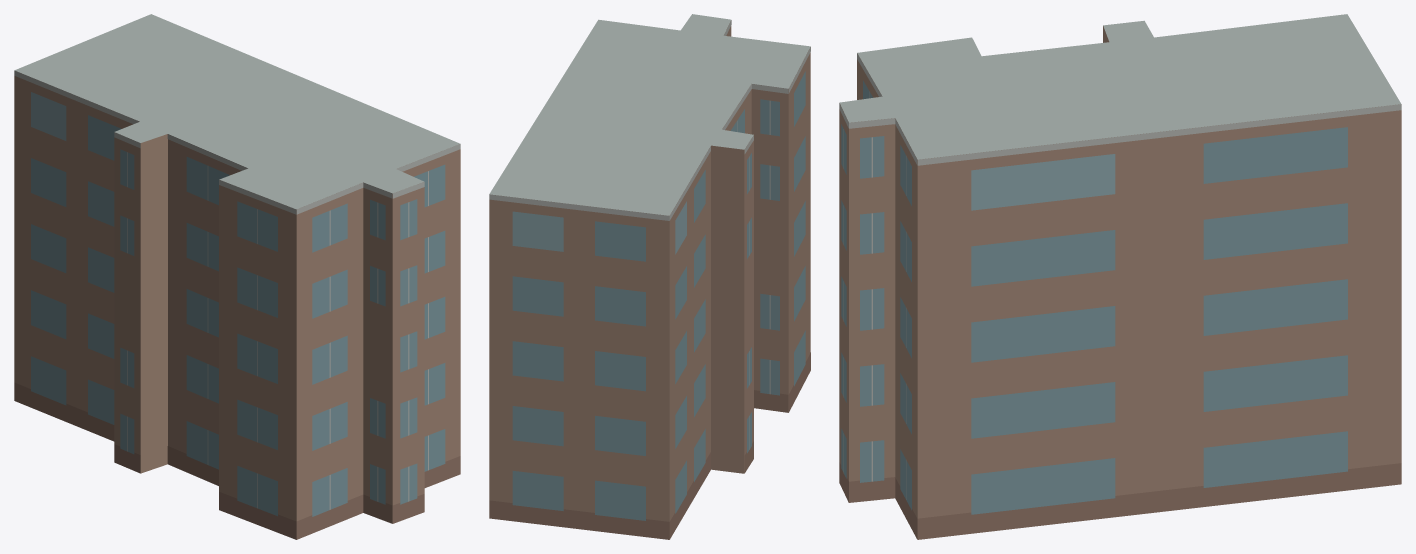
File: survey-upis-32569547.glb
3 renders of one model, left to right at view 1: azimuth 30°, elevation 25°; view 2: azimuth 150°, elevation 25°; view 3: azimuth 270°, elevation 25°, orthographic. The views are drawn at different scales.
Visible parts, largest first — view 1: survey-upis-32569547.tmp; view 2: survey-upis-32569547.tmp; view 3: survey-upis-32569547.tmp.
Part boxes in pixels (x1,y1,x2,y2): survey-upis-32569547.tmp: (14,14,460,539); survey-upis-32569547.tmp: (489,14,810,539); survey-upis-32569547.tmp: (839,14,1401,539).
Size of the model in its own units: 12.5 by 15.2 by 20.38.
